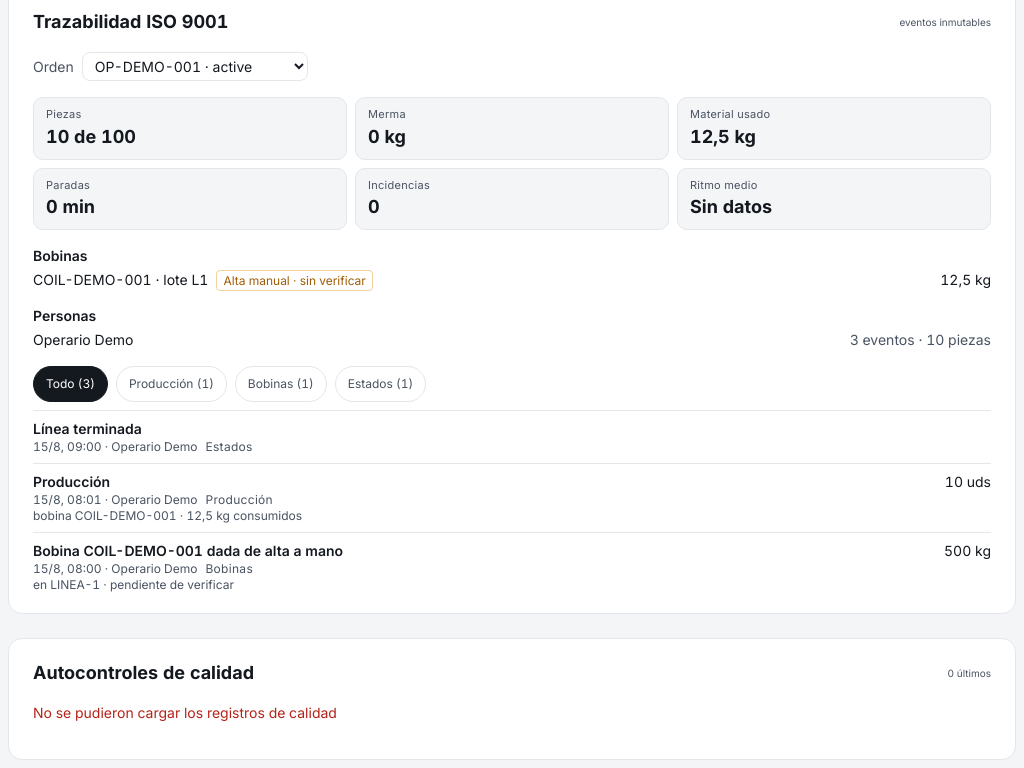
Test case: Trazabilidad ISO 9001 en el panel Supervisor › filtrar por categoría deja solo esos eventos y Todo los devuelve
The image size is (1024, 768).
(page scrolled)
Expected: the text "Línea terminada" is shown, [33,420,142,437]
Click the button "Bobinas (1)": coordinates (281, 384) [235,366,327,402]
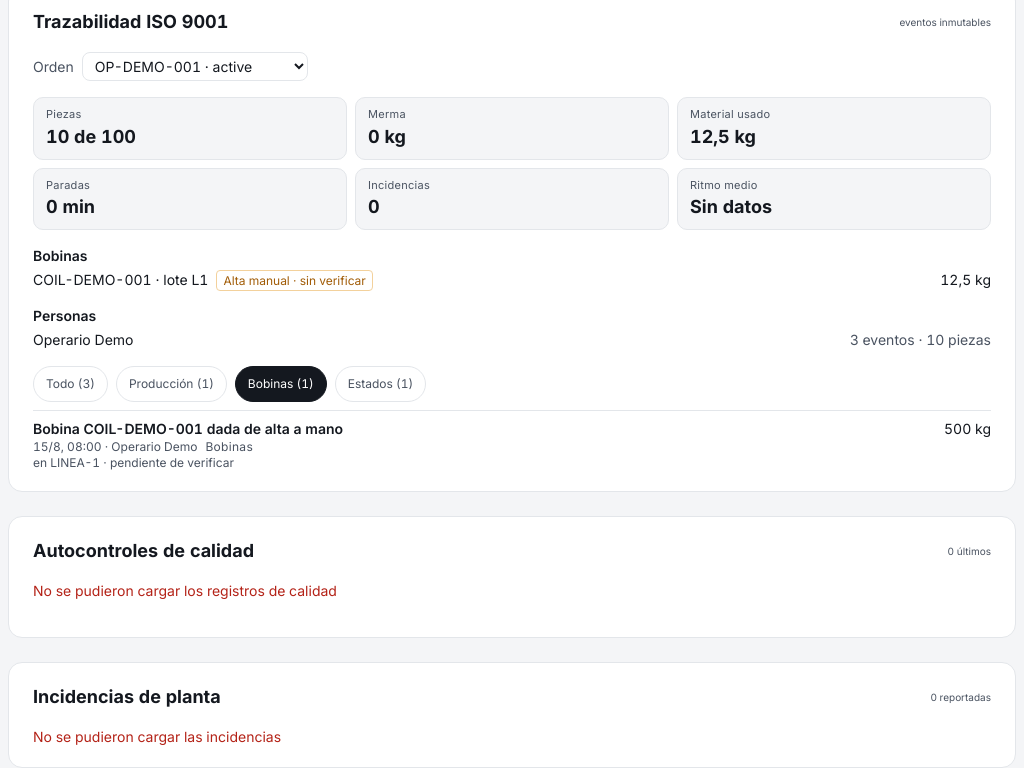
Expected: the text "Bobina COIL-DEMO-001 dada de alta a mano" is shown, [33,419,343,439]
Expected: the text "Línea terminada" is gone
Click the button "Todo (3)": coordinates (70, 384) [33,366,108,402]
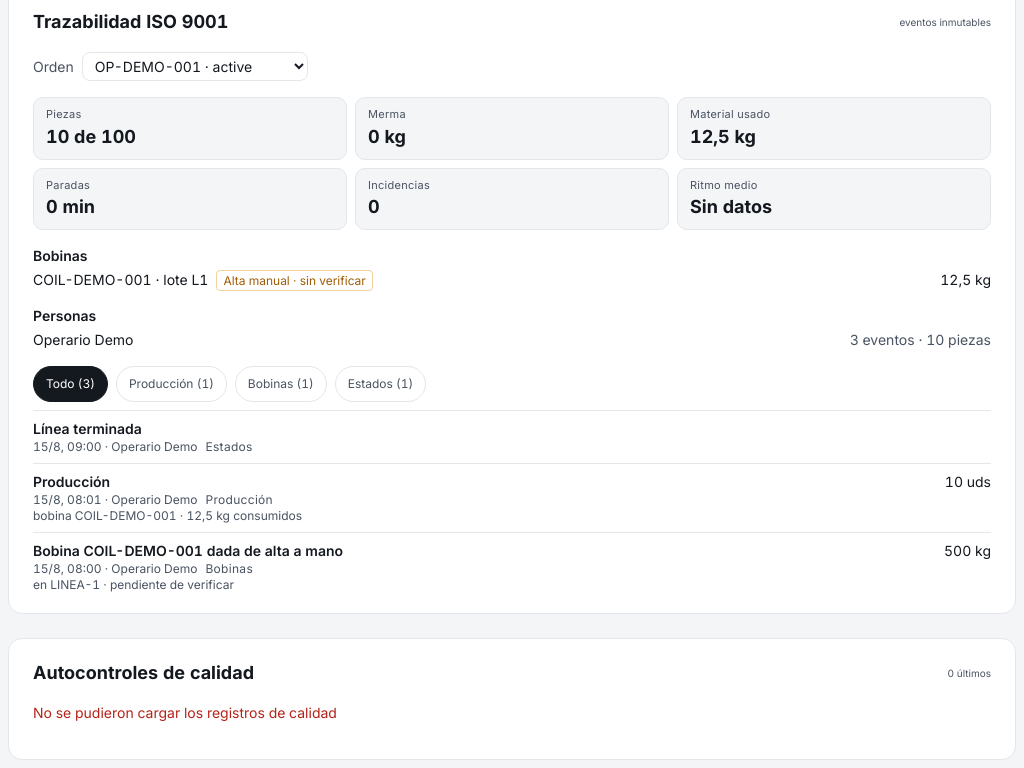
Expected: the text "Línea terminada" is shown, [33,420,142,437]
